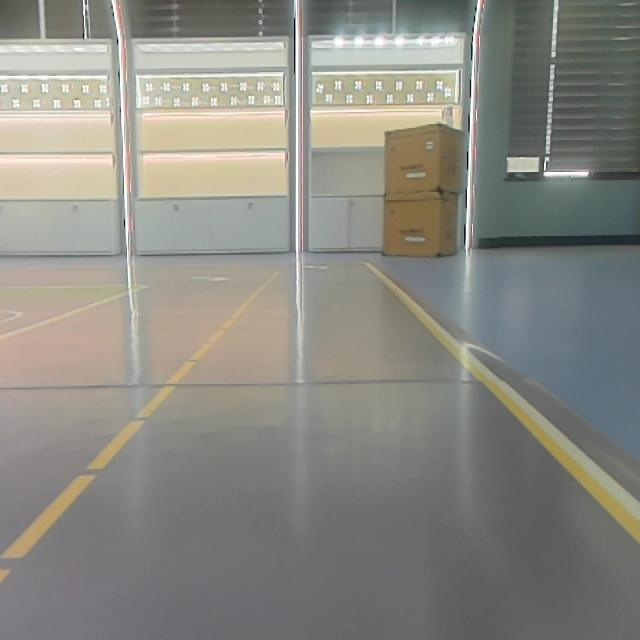left_lane: (0, 277, 268, 589)
right_lane: (378, 265, 639, 543), (1, 283, 146, 345)
